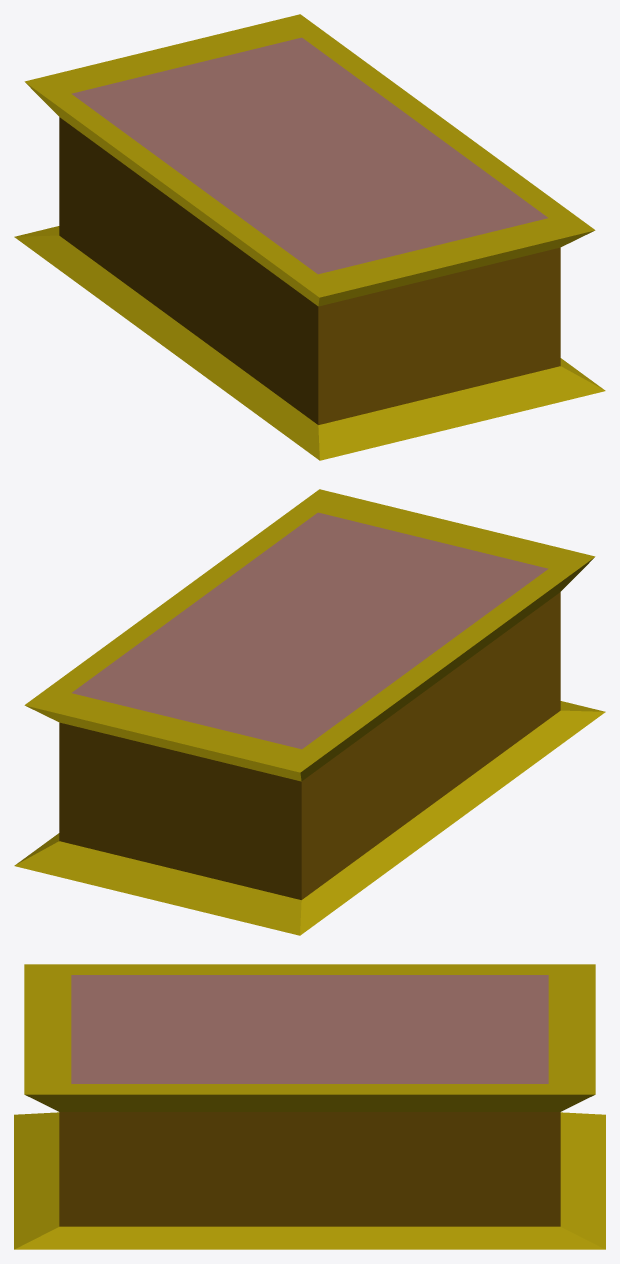
File: Show_Case_No_Glass.fbx
3 views of the same model, one above another, from view 1: azimuth 30°, elevation 25°; view 2: azimuth 150°, elevation 25°; view 3: azimuth 270°, elevation 25° (orthographic). The views are drawn at different scales.
Visible parts, largest first — view 1: pCube1; view 2: pCube1; view 3: pCube1.
Part boxes in pixels (x1,y1,x2,y2): pCube1: (14,14,605,460); pCube1: (14,489,605,935); pCube1: (14,964,605,1249).
Bounding box in the file's own units: 6.18 × 3.26 × 11.44.
